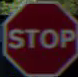Stop: (5, 0, 74, 74)
